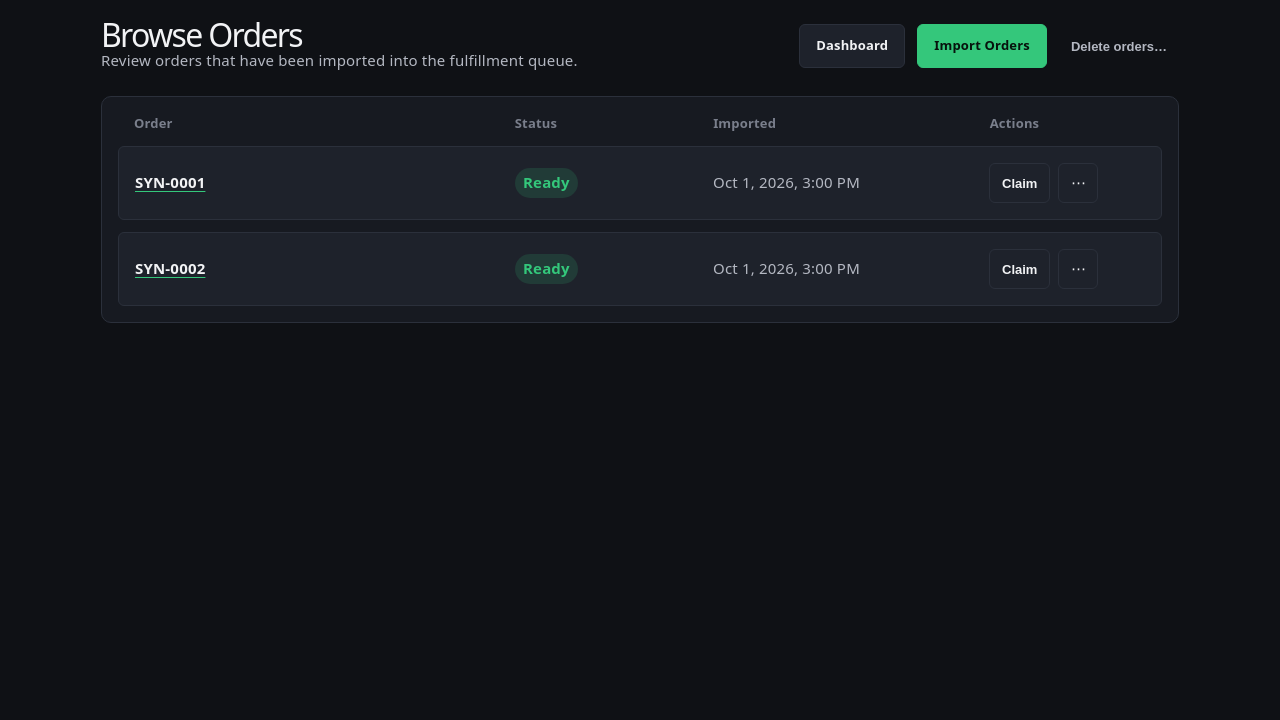
it: OrdersPage deletion › removes the row once Delete order succeeds
The width and height of the screenshot is (1280, 720).
Click the button named "actions": (1078, 183) [1058, 163, 1098, 203]
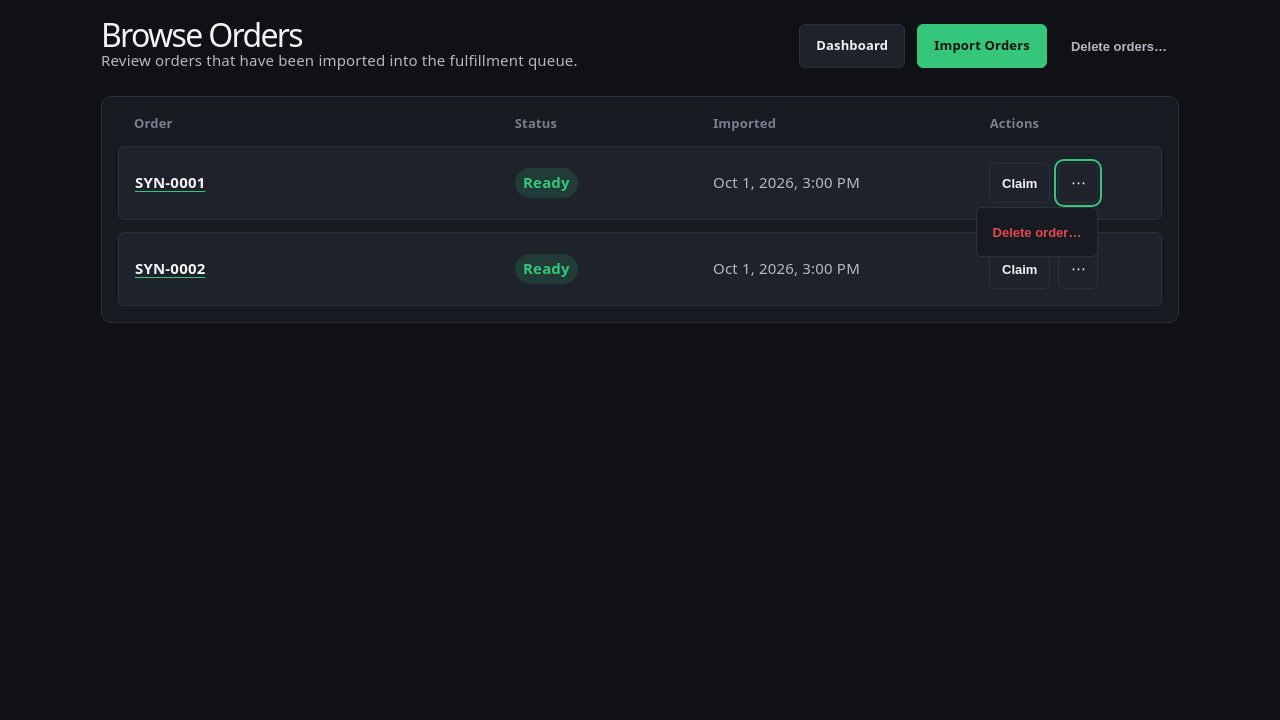
Click the menu item "Delete order…": (1037, 232) [980, 212, 1093, 252]
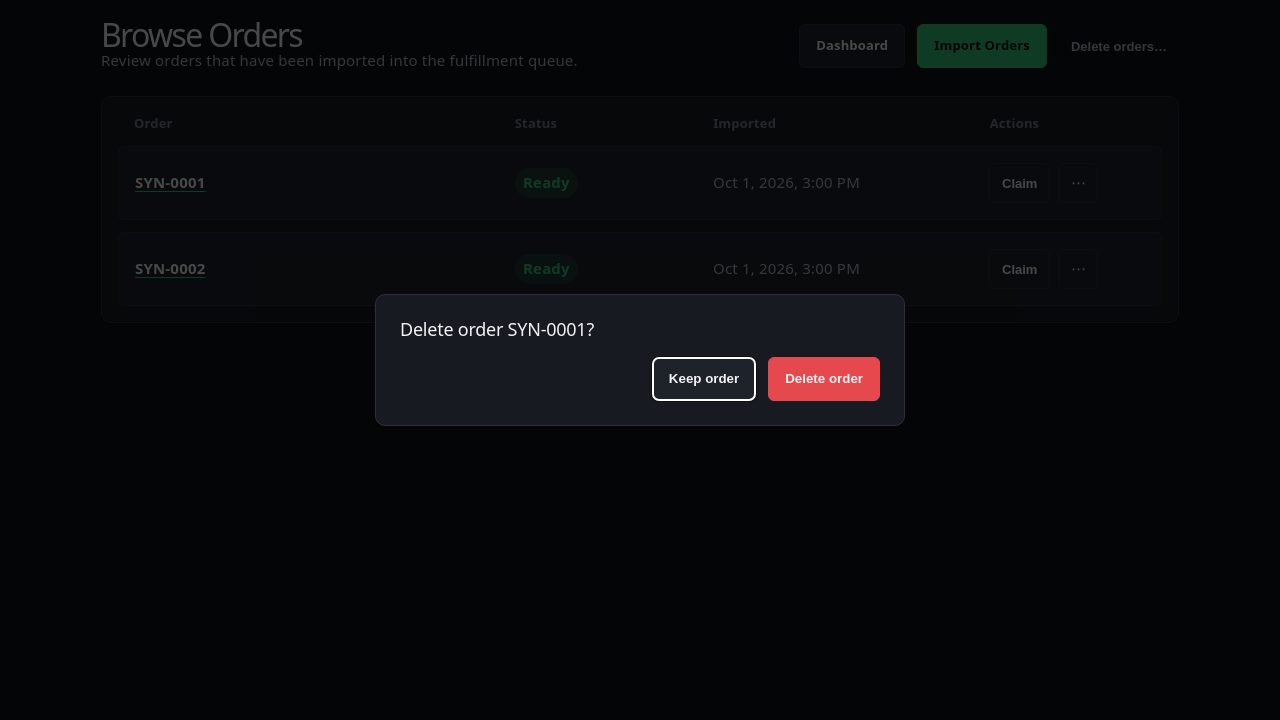
Click the button "Delete order": (824, 379) [768, 357, 880, 401]
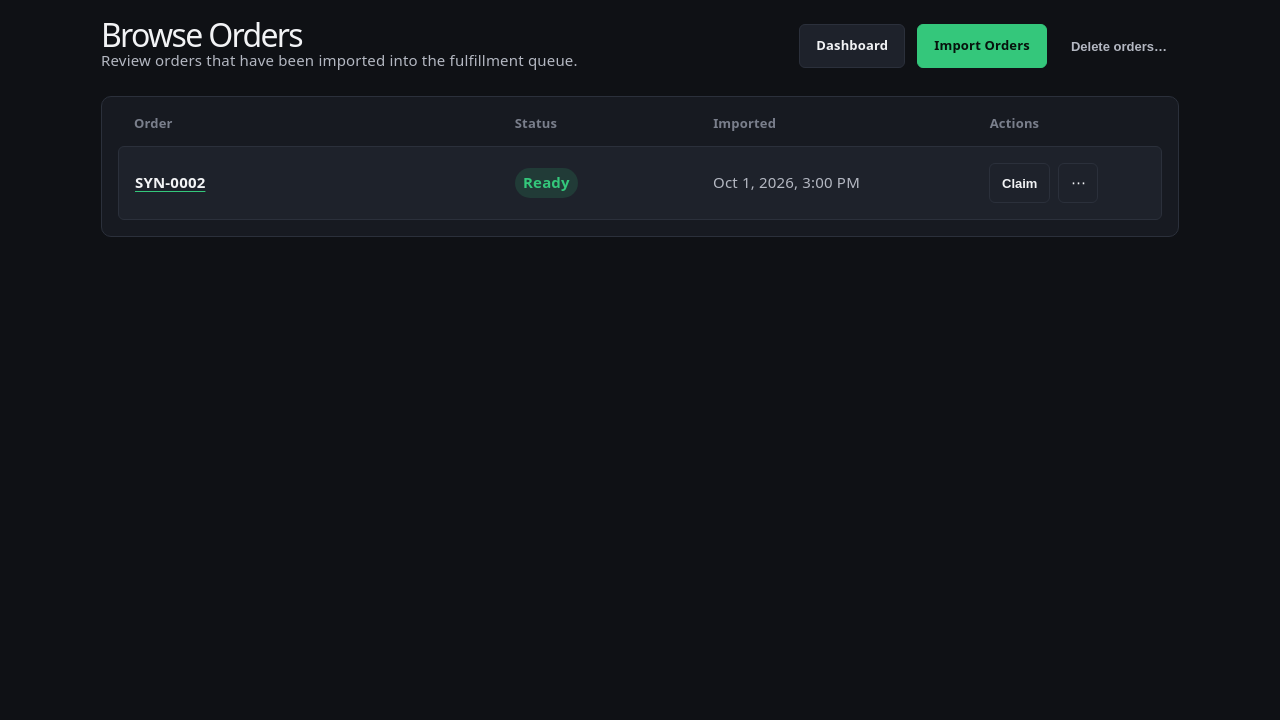
Expected: the element "SYN-0002 Ready Oct 1, 2026, 3:00 PM Claim ⋯" is shown, [118, 146, 1162, 220]
Now the link "SYN-0001" is gone
Now the dialog is gone
